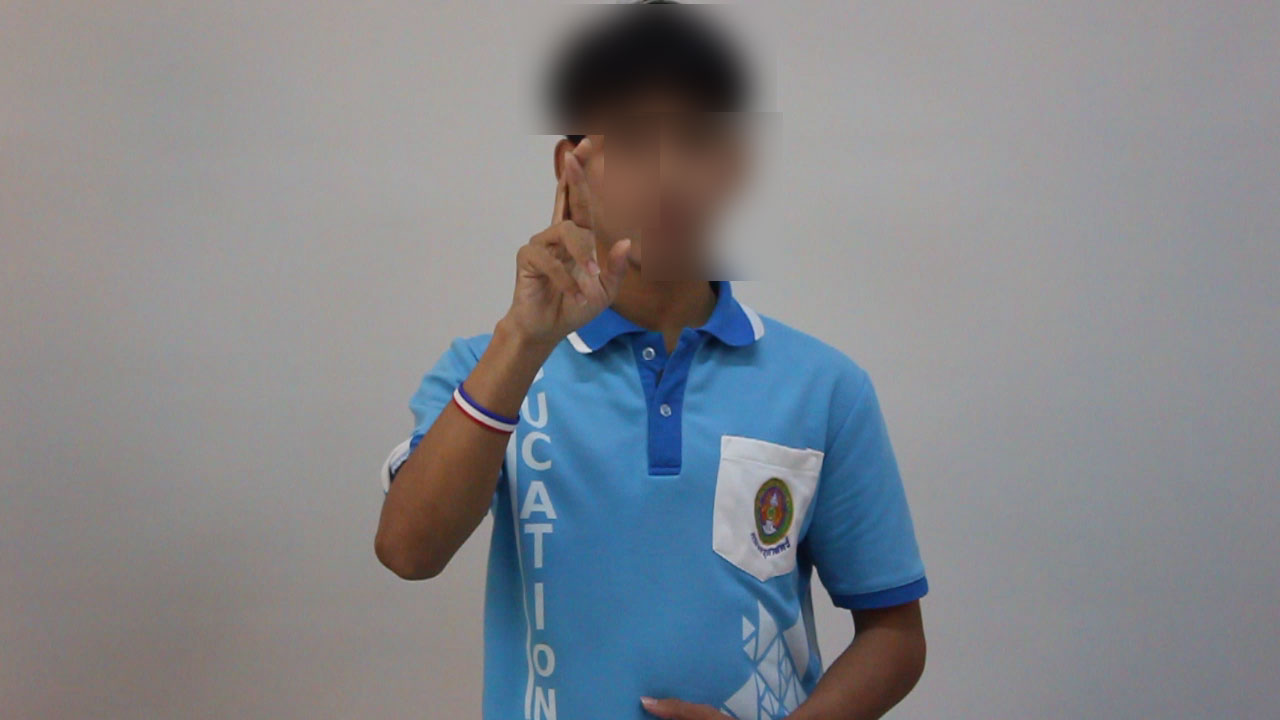rao: (474, 128, 637, 339)
